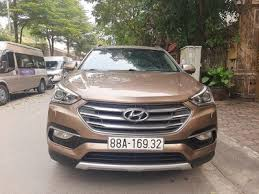Bien-so: (109, 137, 163, 151)
